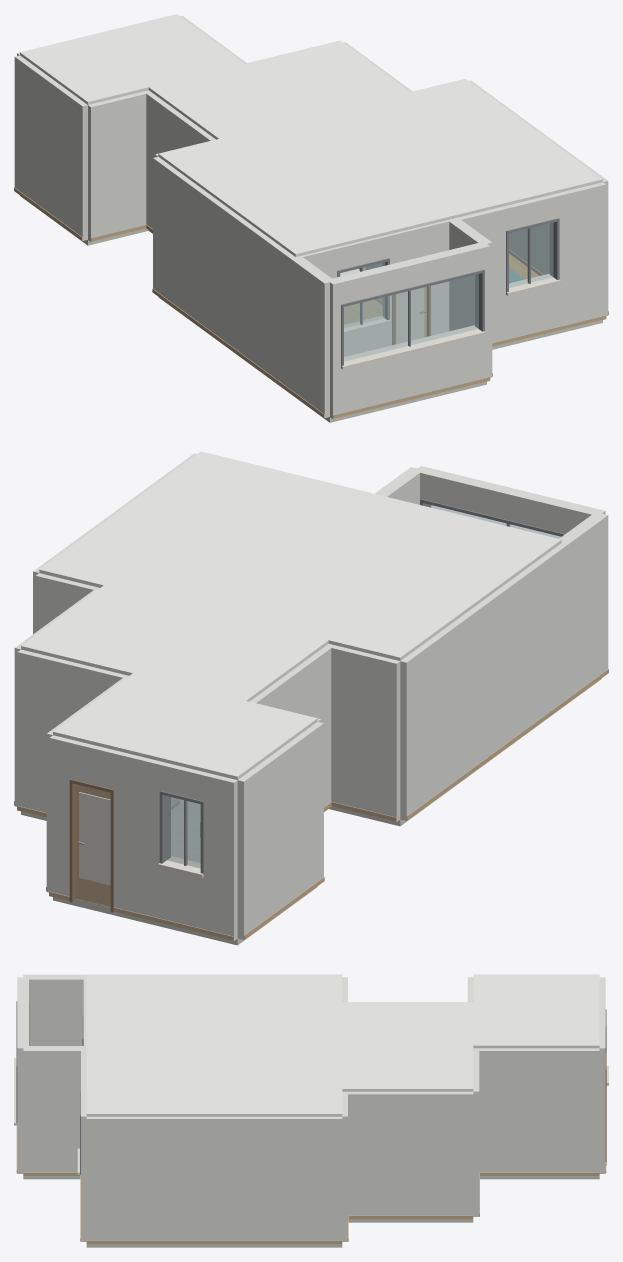
The model's file is two-04.glb.
The picture shows the model from 3 angles, top to bottom: view 1: azimuth 30°, elevation 25°; view 2: azimuth 150°, elevation 25°; view 3: azimuth 270°, elevation 25°; orthographic projection. The views are drawn at different scales.
Parts seen in each view (by area): view 1: architecture_wall, ceiling_ceiling, frames_glass, frames_metal, trim_oak, frames_ivory, slab_edge, door_ivory, floor_woodfloor; view 2: architecture_wall, ceiling_ceiling, trim_oak, door_ivory, frames_glass, frames_metal, slab_edge, door_glass, frames_walnut, floor_livingfloor, door_oak; view 3: architecture_wall, ceiling_ceiling, trim_oak, slab_edge, frames_metal.
Part boxes in pixels (x1,y1,x2,y2): architecture_wall: [14, 15, 608, 419]; ceiling_ceiling: [20, 14, 602, 256]; frames_glass: [340, 223, 553, 361]; frames_metal: [337, 218, 559, 368]; trim_oak: [14, 187, 608, 418]; frames_ivory: [341, 274, 560, 369]; slab_edge: [20, 195, 602, 422]; door_ivory: [395, 287, 424, 344]; floor_woodfloor: [344, 253, 539, 324]; architecture_wall: [14, 453, 608, 940]; ceiling_ceiling: [21, 451, 561, 779]; trim_oak: [14, 669, 608, 940]; door_ivory: [79, 792, 110, 885]; frames_glass: [166, 504, 560, 868]; frames_metal: [159, 499, 564, 875]; slab_edge: [21, 678, 601, 945]; door_glass: [171, 797, 200, 862]; frames_walnut: [69, 779, 113, 912]; floor_livingfloor: [77, 799, 200, 907]; door_oak: [76, 784, 110, 906]; architecture_wall: [17, 974, 605, 1244]; ceiling_ceiling: [86, 974, 599, 1116]; trim_oak: [16, 1126, 606, 1244]; slab_edge: [23, 1176, 599, 1247]; frames_metal: [16, 1001, 606, 1174].
Bounding box in the file's own units: 6.82 × 2.93 × 11.83.
Materials: 20 (4 with a texture image).
